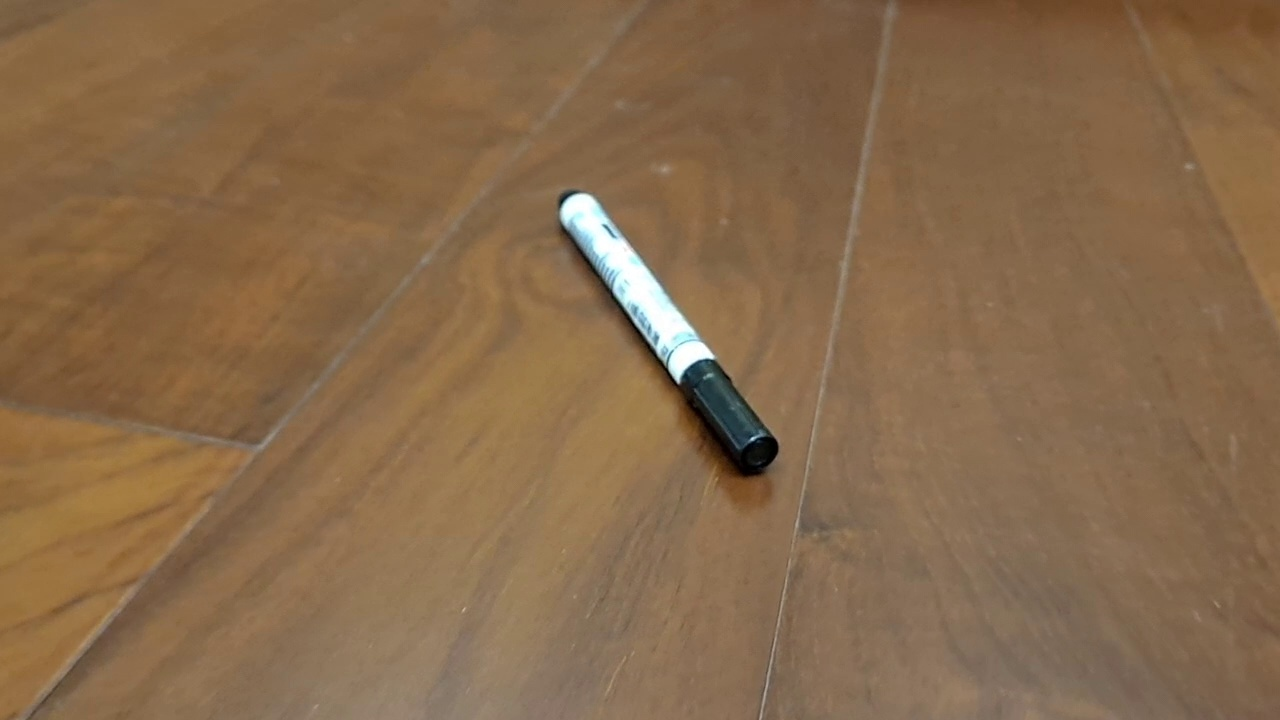pen: (557, 189, 780, 476)
